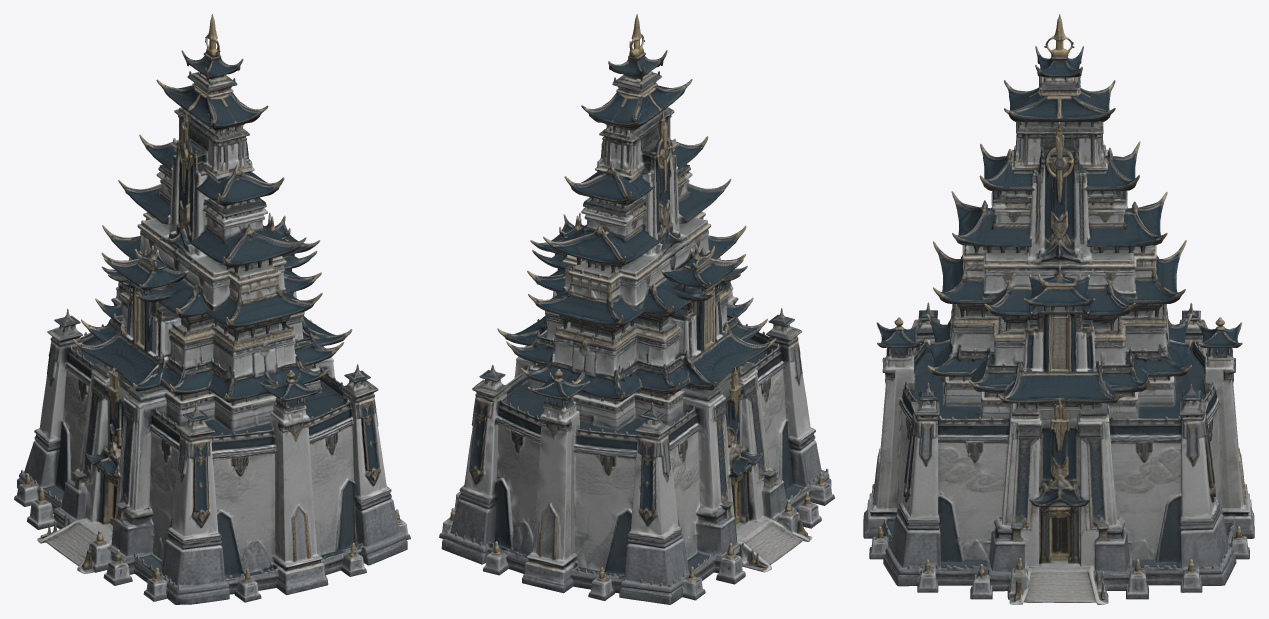
The model's file is 主建筑.optimized.glb.
3 renders of one model, left to right at view 1: azimuth 30°, elevation 25°; view 2: azimuth 150°, elevation 25°; view 3: azimuth 270°, elevation 25°, orthographic. The views are drawn at different scales.
Visible parts, largest first — view 1: tripo_node_57340ed3-0aa1-47b6-9d8e-e8c4425b5882; view 2: tripo_node_57340ed3-0aa1-47b6-9d8e-e8c4425b5882; view 3: tripo_node_57340ed3-0aa1-47b6-9d8e-e8c4425b5882.
Part boxes in pixels (x1,y1,x2,y2): tripo_node_57340ed3-0aa1-47b6-9d8e-e8c4425b5882: [14, 14, 410, 604]; tripo_node_57340ed3-0aa1-47b6-9d8e-e8c4425b5882: [439, 14, 834, 604]; tripo_node_57340ed3-0aa1-47b6-9d8e-e8c4425b5882: [863, 14, 1254, 604].
Bounding box in the file's own units: 0.6359 × 1 × 0.6883.
Materials: 1 (1 with a texture image).
